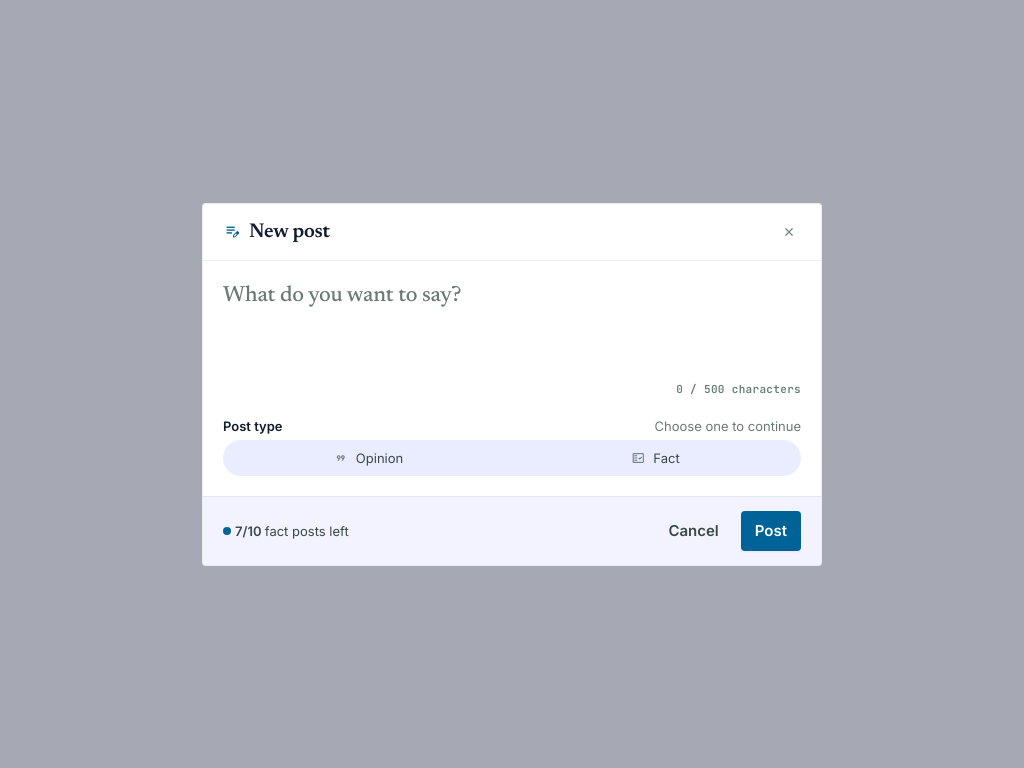
Test: ComposerModal: the form › has no source field for an opinion, and one for a fact
The width and height of the screenshot is (1024, 768).
Click the radio button labelled "Opinion": (368, 458) x1=227 y1=444 x2=510 y2=472
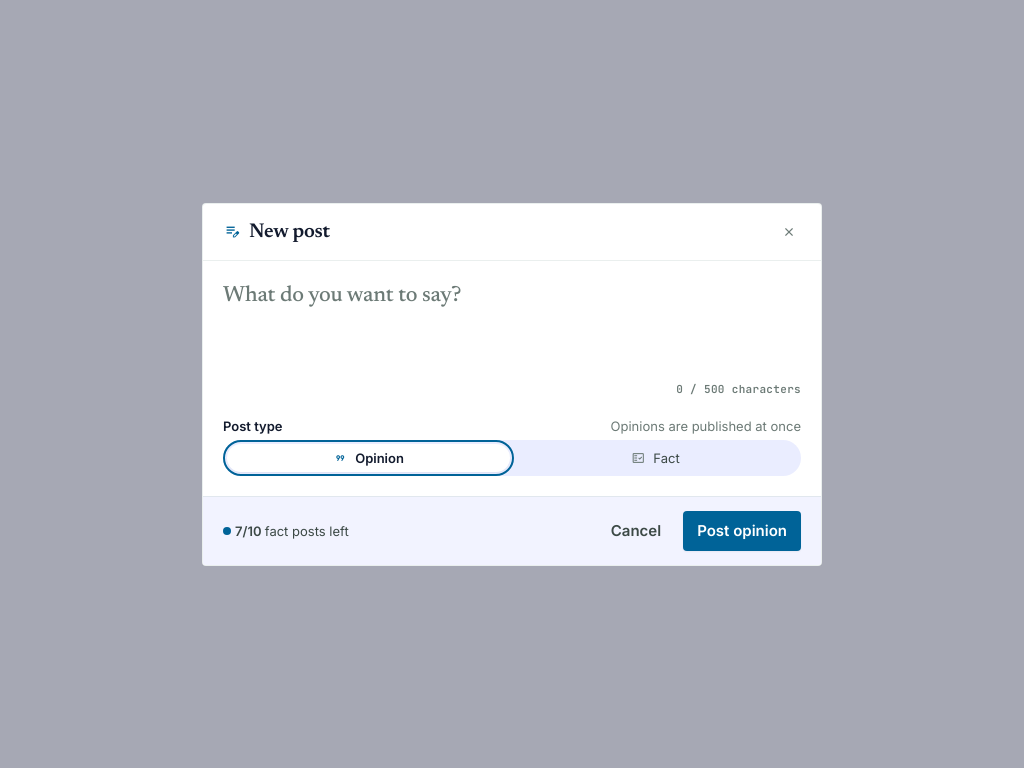
Check: the text "Opinions are published at once" is shown, box x1=611 y1=416 x2=801 y2=436
Check: the button "Post opinion" is shown, box x1=683 y1=510 x2=801 y2=550
Click the radio button labelled "Fact": (656, 458) x1=514 y1=444 x2=797 y2=472
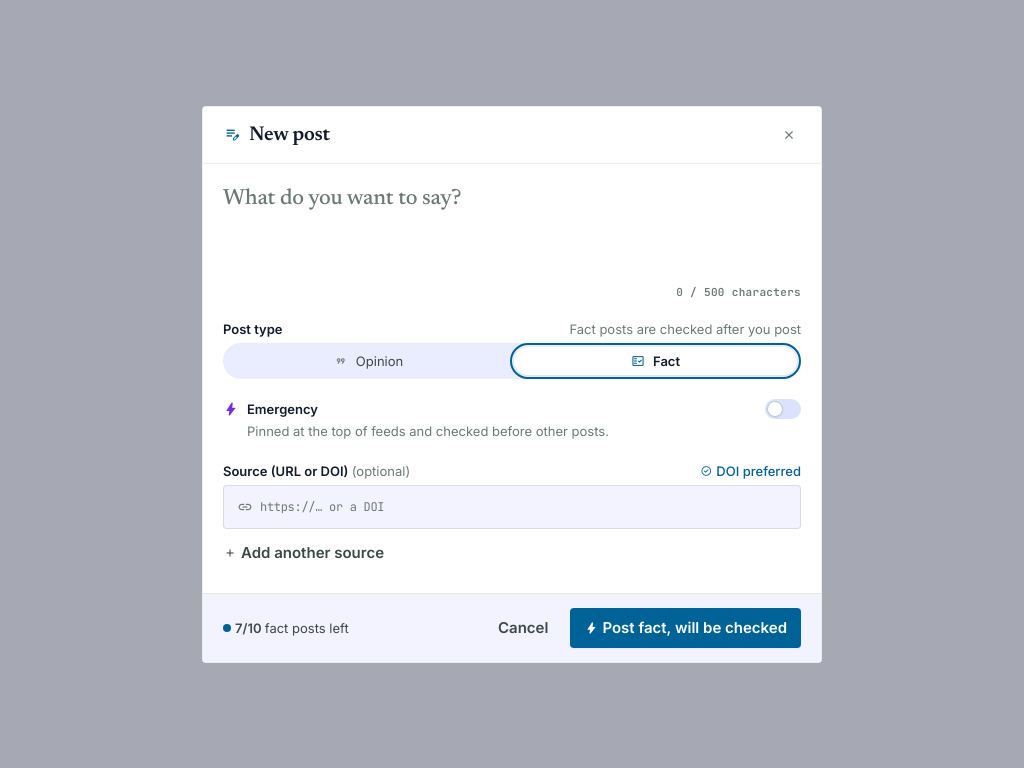
Check: the number of fields labelled "https://… or a DOI" is 1, box x1=223 y1=484 x2=801 y2=528
Check: the text "DOI preferred" is shown, box x1=700 y1=460 x2=801 y2=480
Check: the text "Fact posts are checked after you post" is shown, box x1=569 y1=318 x2=801 y2=338
